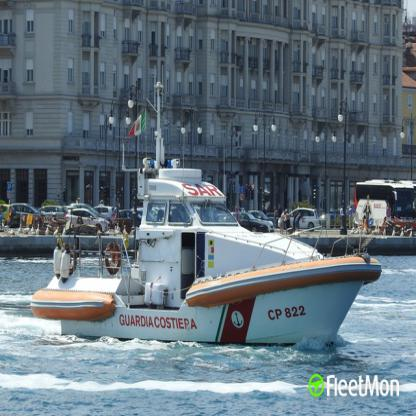Patrol Boat: (31, 64, 382, 347)
